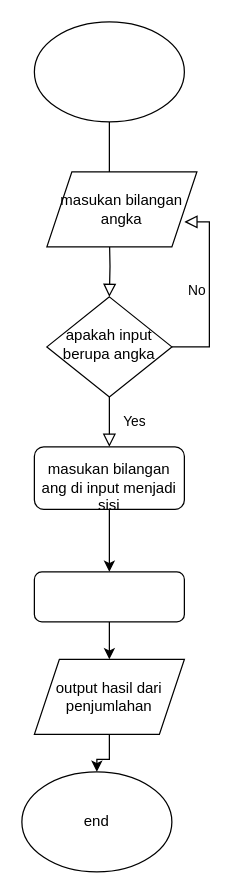
Image size: 244x894. Some labels were removed from this diagram. Each missing label, with the box of its shape:
hitung : 6 x sisi x sisi: (33, 571, 184, 622)
start: (33, 21, 184, 122)
